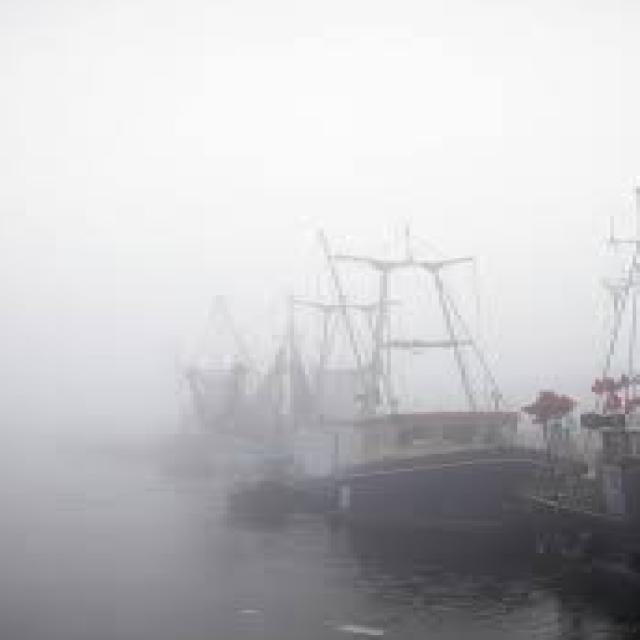fishing boat: (125, 210, 602, 530)
